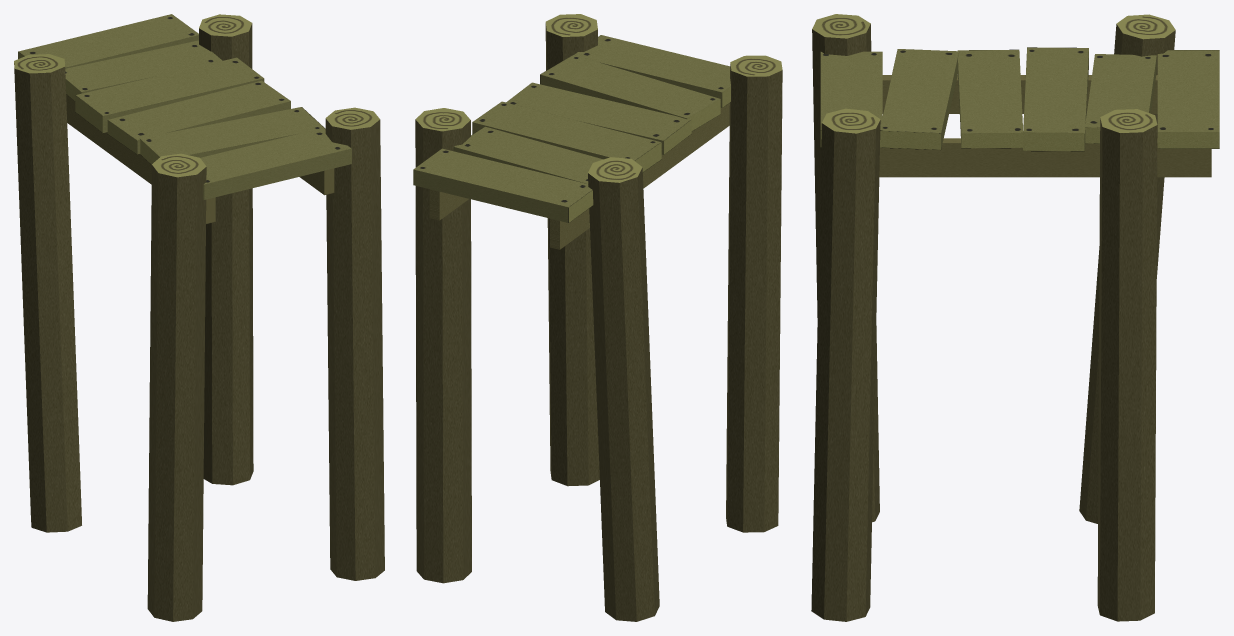
The model's file is dock.glb.
3 views of the same model, side by side, from view 1: azimuth 30°, elevation 25°; view 2: azimuth 150°, elevation 25°; view 3: azimuth 270°, elevation 25° (orthographic). The views are drawn at different scales.
Visible parts, largest first — view 1: Cylinder.002, Cylinder.001, Cylinder.004, Cylinder.003, Cube.001, Cube.006, Cube.005, Cube.004, Cube.008, Cube.007, Cube.002, Cube.003; view 2: Cylinder.004, Cylinder.002, Cylinder.003, Cylinder.001, Cube.008, Cube.004, Cube.006, Cube.005, Cube.001, Cube.007, Cube.002, Cube.003; view 3: Cylinder.001, Cylinder.003, Cube.003, Cube.006, Cube.004, Cube.005, Cube.008, Cylinder.004, Cylinder.002, Cube.007, Cube.001, Cube.002.
Boxes of the visible parts, x1=… form: Cylinder.002: x1=147, y1=153, x2=206, y2=621; Cylinder.001: x1=325, y1=107, x2=384, y2=580; Cylinder.004: x1=14, y1=54, x2=81, y2=532; Cylinder.003: x1=199, y1=14, x2=253, y2=485; Cube.001: x1=200, y1=128, x2=351, y2=199; Cube.006: x1=75, y1=57, x2=264, y2=132; Cube.005: x1=107, y1=80, x2=290, y2=154; Cube.004: x1=139, y1=107, x2=325, y2=164; Cube.008: x1=18, y1=14, x2=198, y2=68; Cube.007: x1=65, y1=40, x2=222, y2=101; Cube.002: x1=66, y1=94, x2=215, y2=223; Cube.003: x1=299, y1=168, x2=334, y2=195; Cylinder.004: x1=588, y1=157, x2=659, y2=621; Cylinder.002: x1=726, y1=55, x2=782, y2=532; Cylinder.003: x1=415, y1=108, x2=471, y2=583; Cylinder.001: x1=545, y1=14, x2=599, y2=486; Cube.008: x1=413, y1=148, x2=593, y2=222; Cube.004: x1=540, y1=54, x2=720, y2=131; Cube.006: x1=472, y1=101, x2=661, y2=172; Cube.005: x1=506, y1=82, x2=691, y2=154; Cube.001: x1=572, y1=35, x2=730, y2=107; Cube.007: x1=453, y1=126, x2=602, y2=183; Cube.002: x1=550, y1=103, x2=729, y2=249; Cube.003: x1=429, y1=189, x2=468, y2=220; Cylinder.001: x1=811, y1=108, x2=880, y2=621; Cylinder.003: x1=1097, y1=109, x2=1157, y2=621; Cube.003: x1=879, y1=138, x2=1211, y2=177; Cube.006: x1=1023, y1=47, x2=1088, y2=151; Cube.004: x1=880, y1=49, x2=959, y2=149; Cube.005: x1=957, y1=49, x2=1023, y2=148; Cube.008: x1=1157, y1=50, x2=1219, y2=148; Cylinder.004: x1=1079, y1=14, x2=1175, y2=523; Cylinder.002: x1=812, y1=14, x2=879, y2=522; Cube.007: x1=1085, y1=54, x2=1156, y2=143; Cube.001: x1=820, y1=51, x2=882, y2=146; Cube.002: x1=882, y1=75, x2=1157, y2=113.
Size of the model in its own units: 3.03 by 5.8 by 4.37.
1 material, 1 textured.
